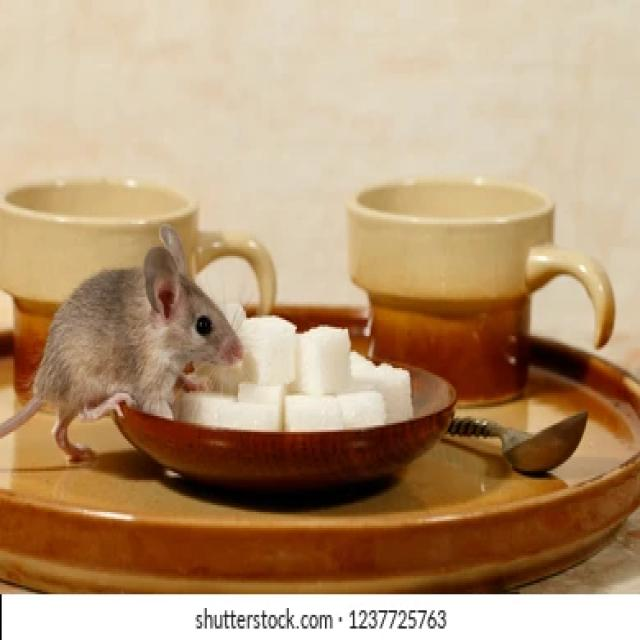rat: (18, 223, 250, 473)
